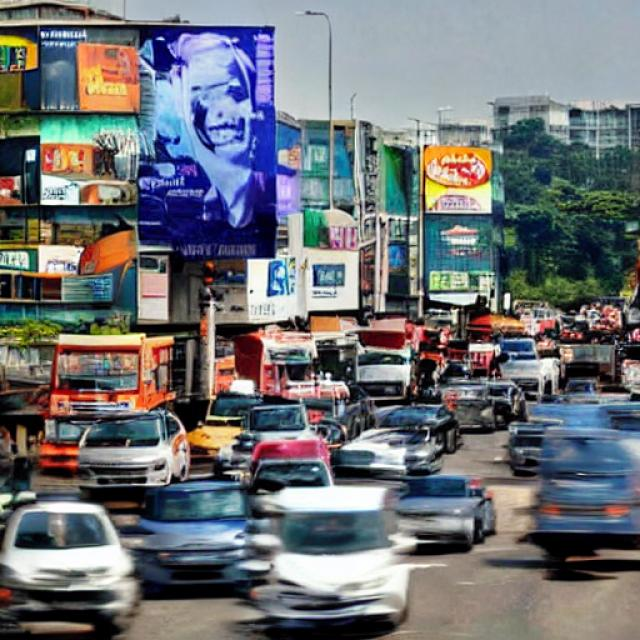Billboard: (137, 24, 274, 255)
